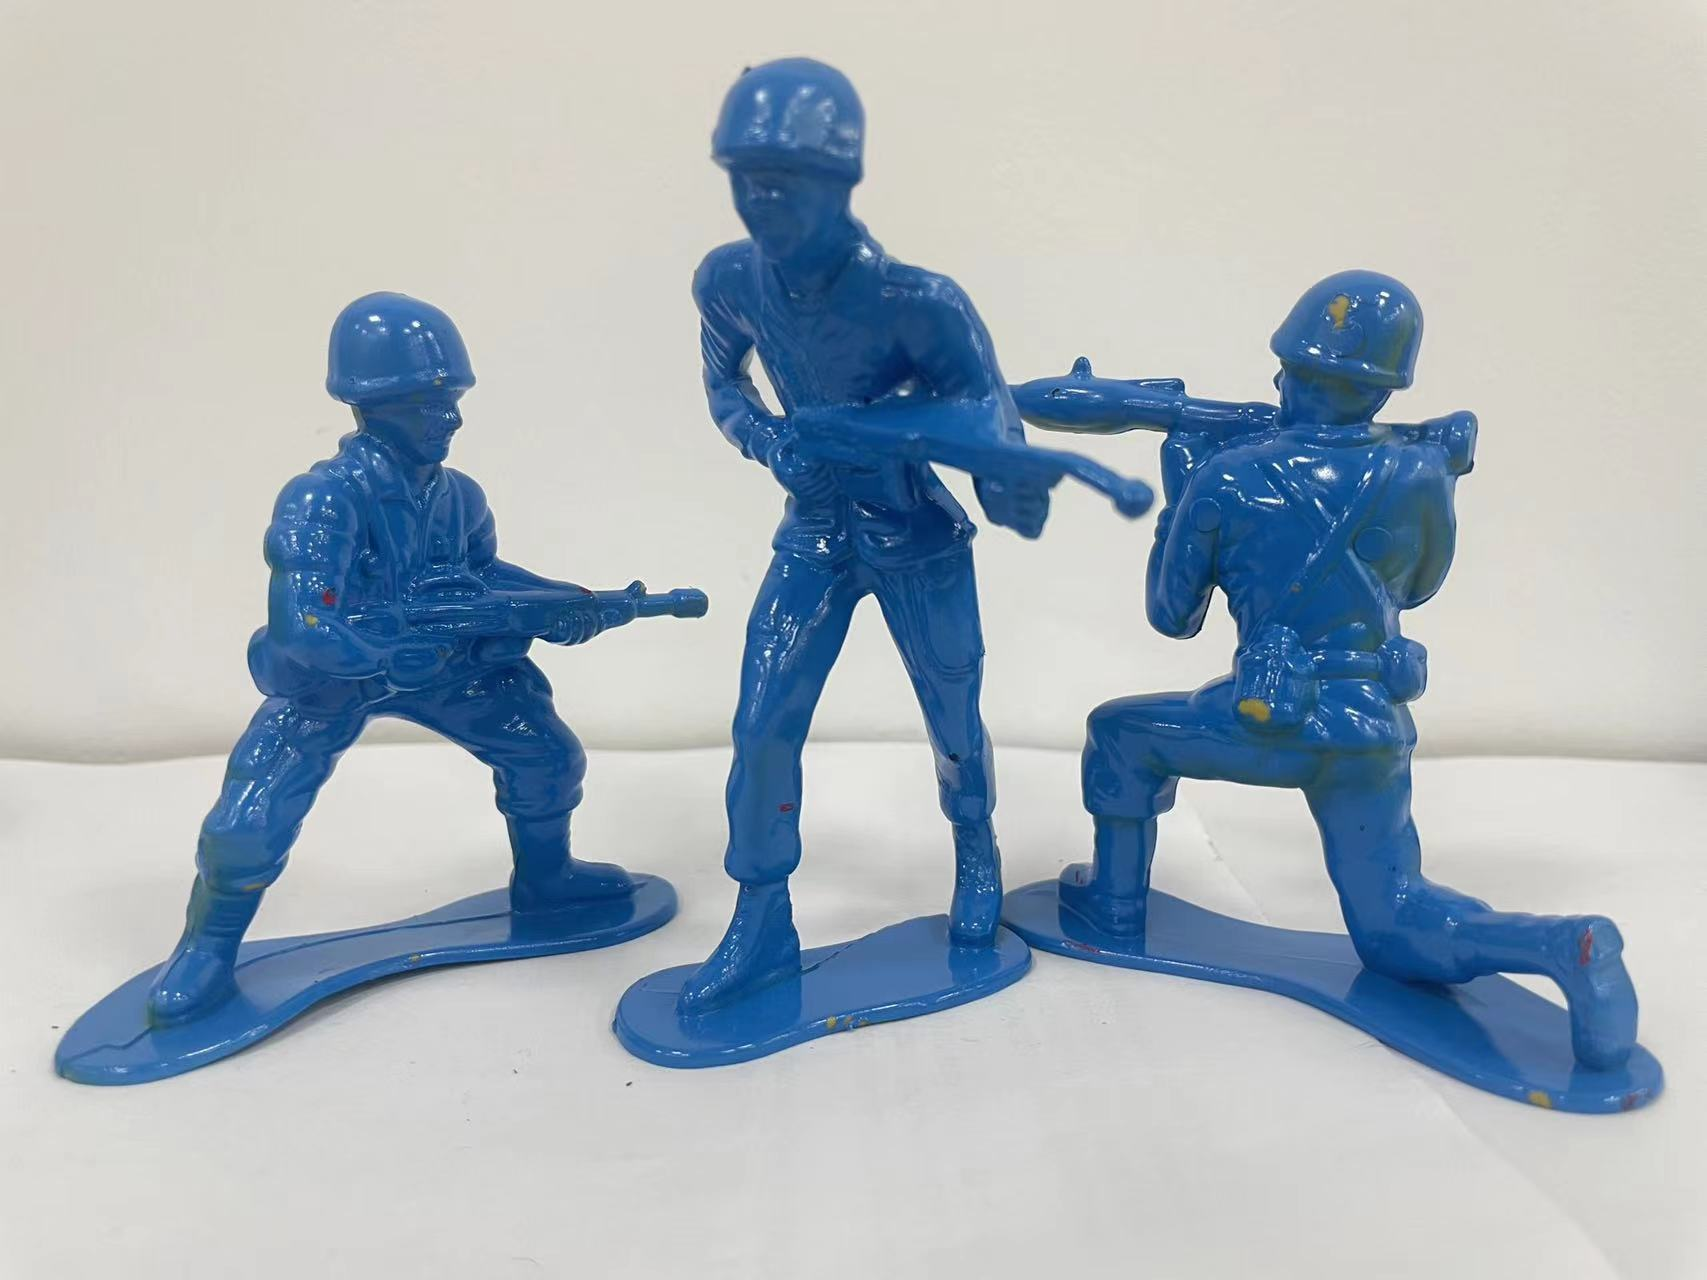blue: (1032, 268, 1692, 1155), (38, 247, 694, 1113), (608, 52, 1081, 1101)
